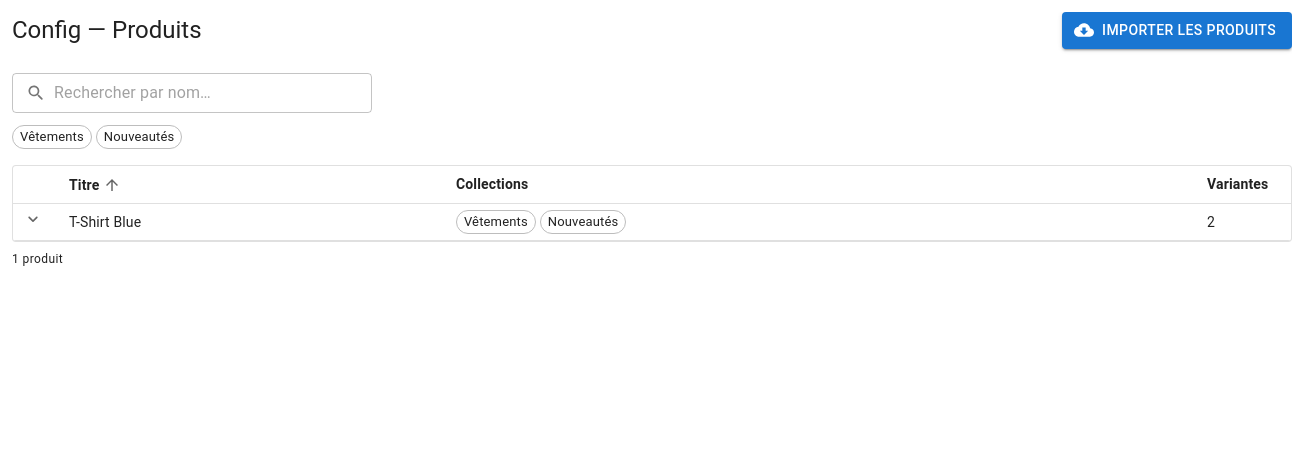
ConfigProductsPage › expands product row to show variants on click
expect the text "S / Blue" is not shown: met
Step 1. Click the text "T-Shirt Blue" → (246, 222), box [53,203,440,240]
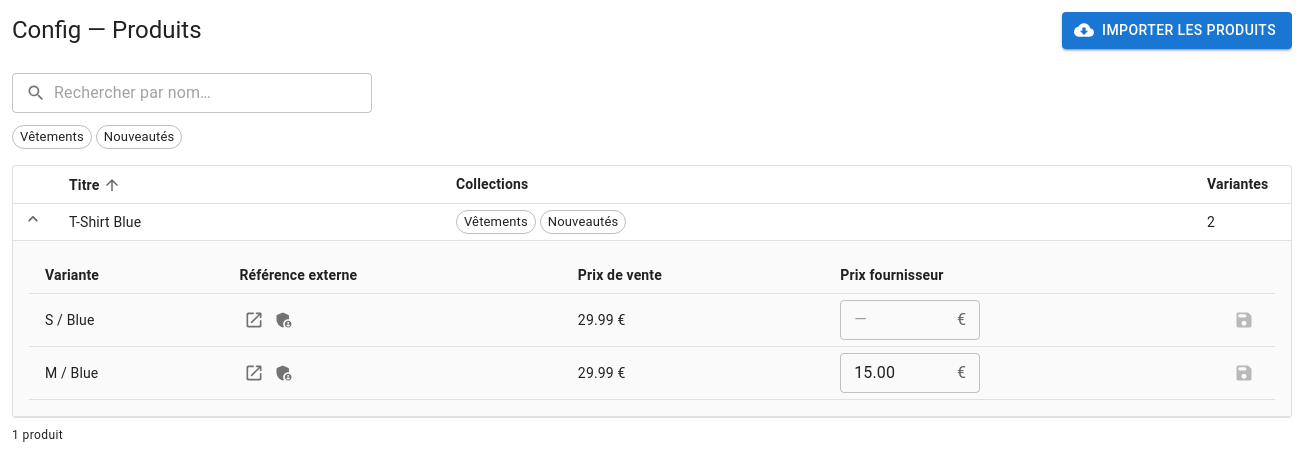
expect the text "S / Blue" is shown: met, box [29,293,223,346]
expect the text "M / Blue" is shown: met, box [29,346,223,399]
